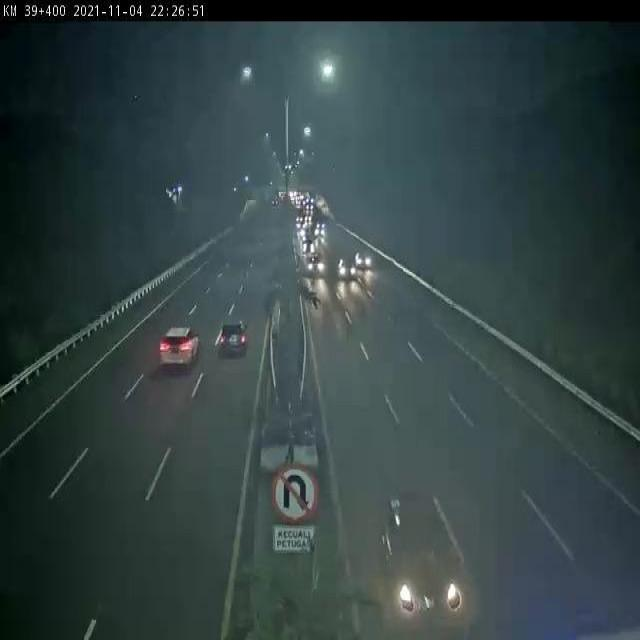car: (380, 491, 464, 621), (159, 324, 198, 371), (220, 319, 246, 356)
